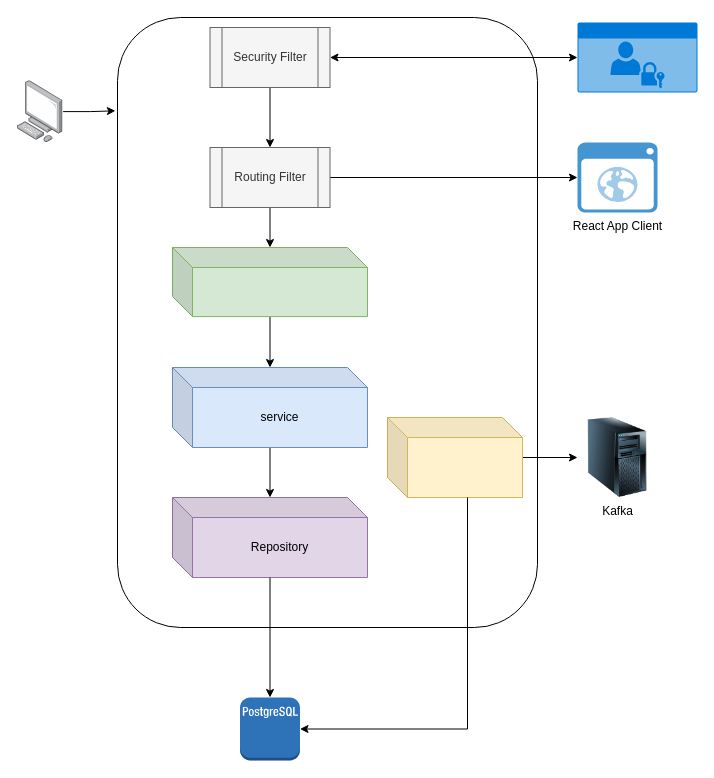
This 714x778 diagram has some shape labels left out. Here are the shapes that lost their labels. From the top down, the centre of each, then its label:
At point 637,57: "SAML PROVIDER".
At point 270,281: "Controller".
At point 454,457: "Kafka Consumer".
